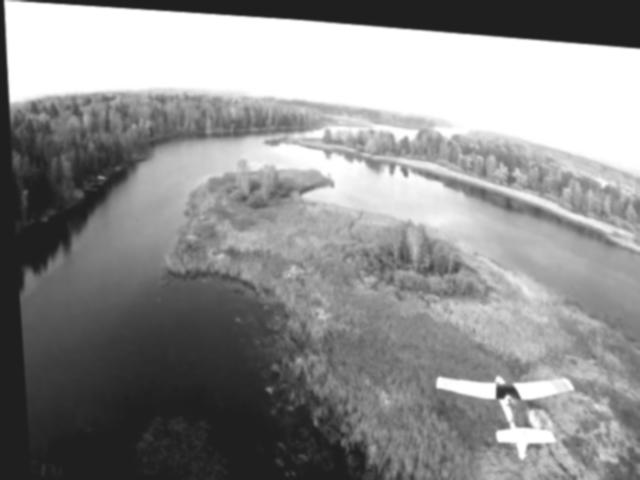hedef: (417, 349, 581, 457)
